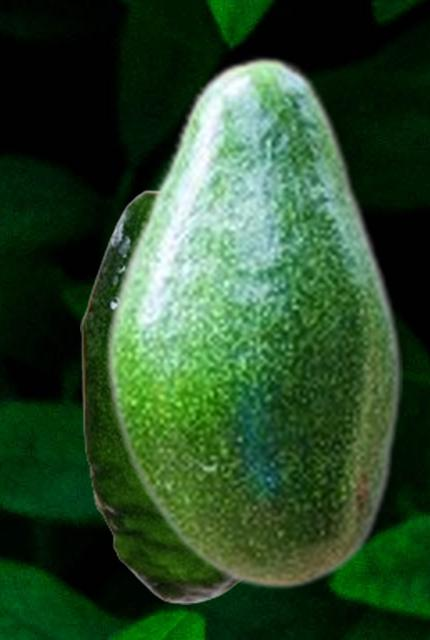avocado: (103, 55, 401, 590), (80, 189, 241, 603)
